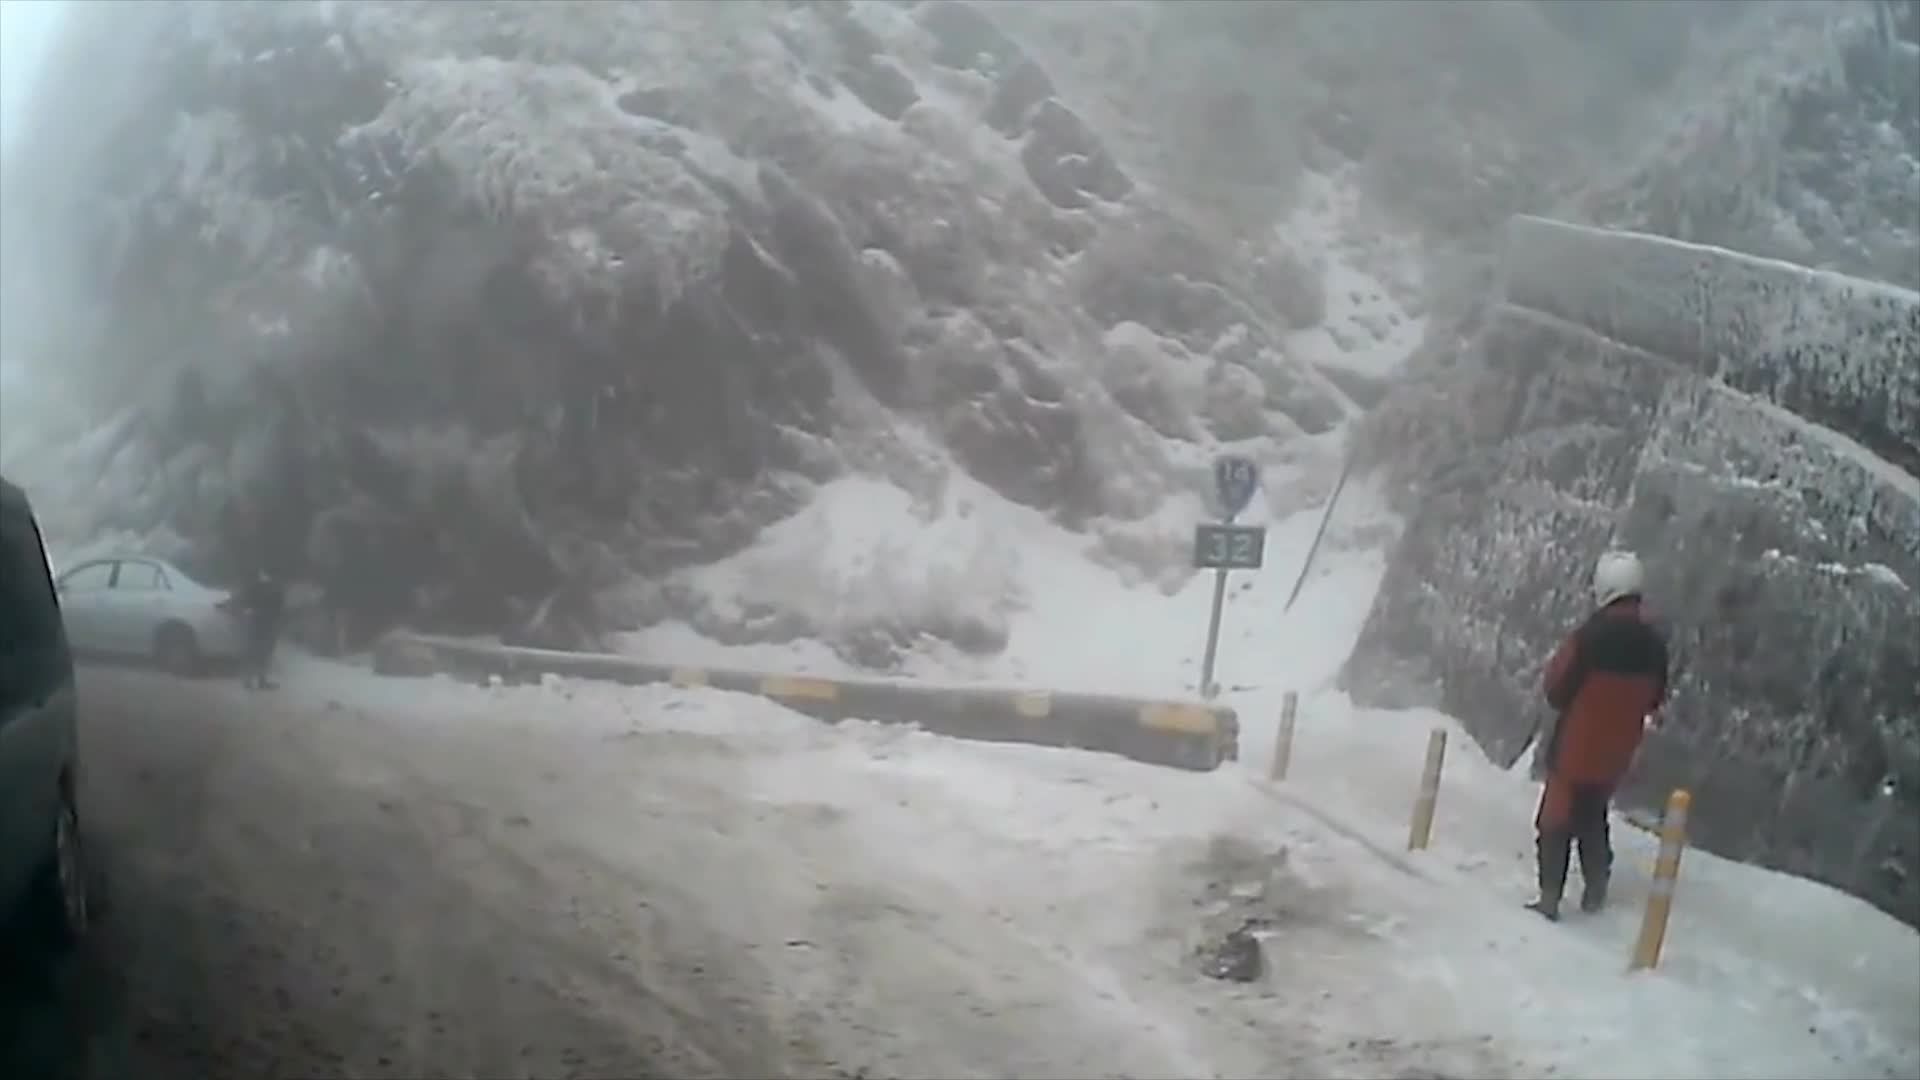pedestrian: (1530, 543, 1672, 925), (230, 565, 286, 695)
vehicle: (0, 479, 87, 1049), (0, 554, 257, 677)
